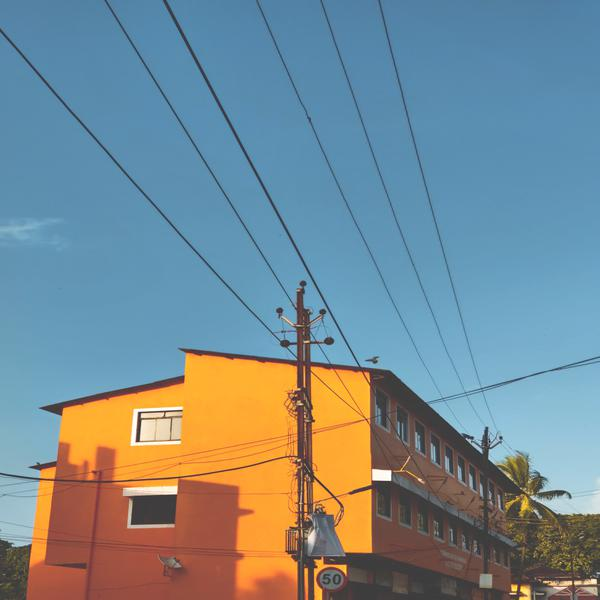utility_pole: (264, 273, 339, 378)
